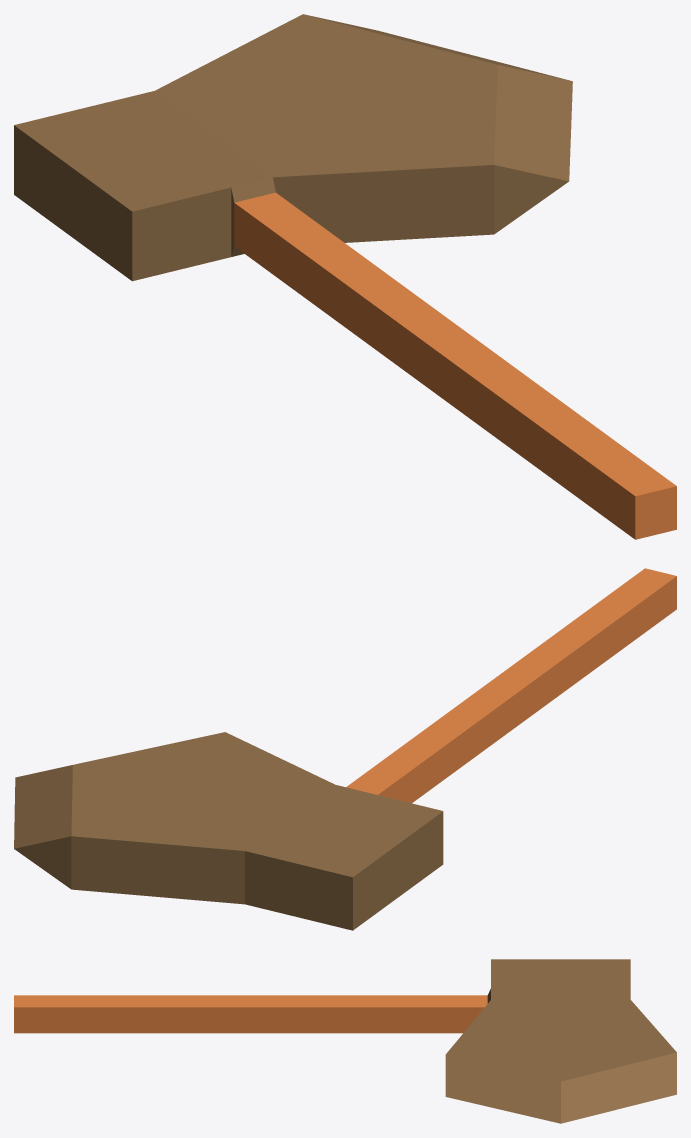
Rendered from bronze_axe.glb.
3 renders of one model, top to bottom at view 1: azimuth 30°, elevation 25°; view 2: azimuth 150°, elevation 25°; view 3: azimuth 270°, elevation 25°, orthographic. The views are drawn at different scales.
Visible parts, largest first — view 1: Cube; view 2: Cube; view 3: Cube.
Part boxes in pixels (box(x1,y1,x2,y2)): Cube: box(14, 14, 676, 539); Cube: box(14, 568, 676, 930); Cube: box(14, 959, 676, 1123).
Bounding box in the file's own units: 7.32 × 1.06 × 14.25.
